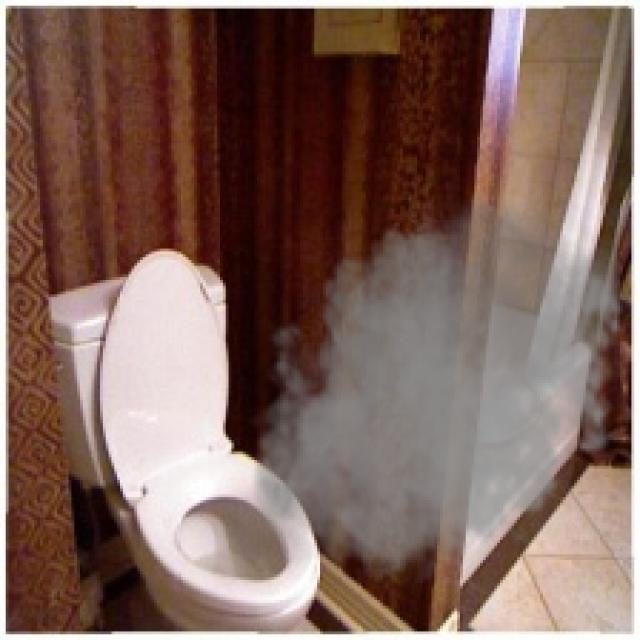smoke: (246, 172, 637, 592)
